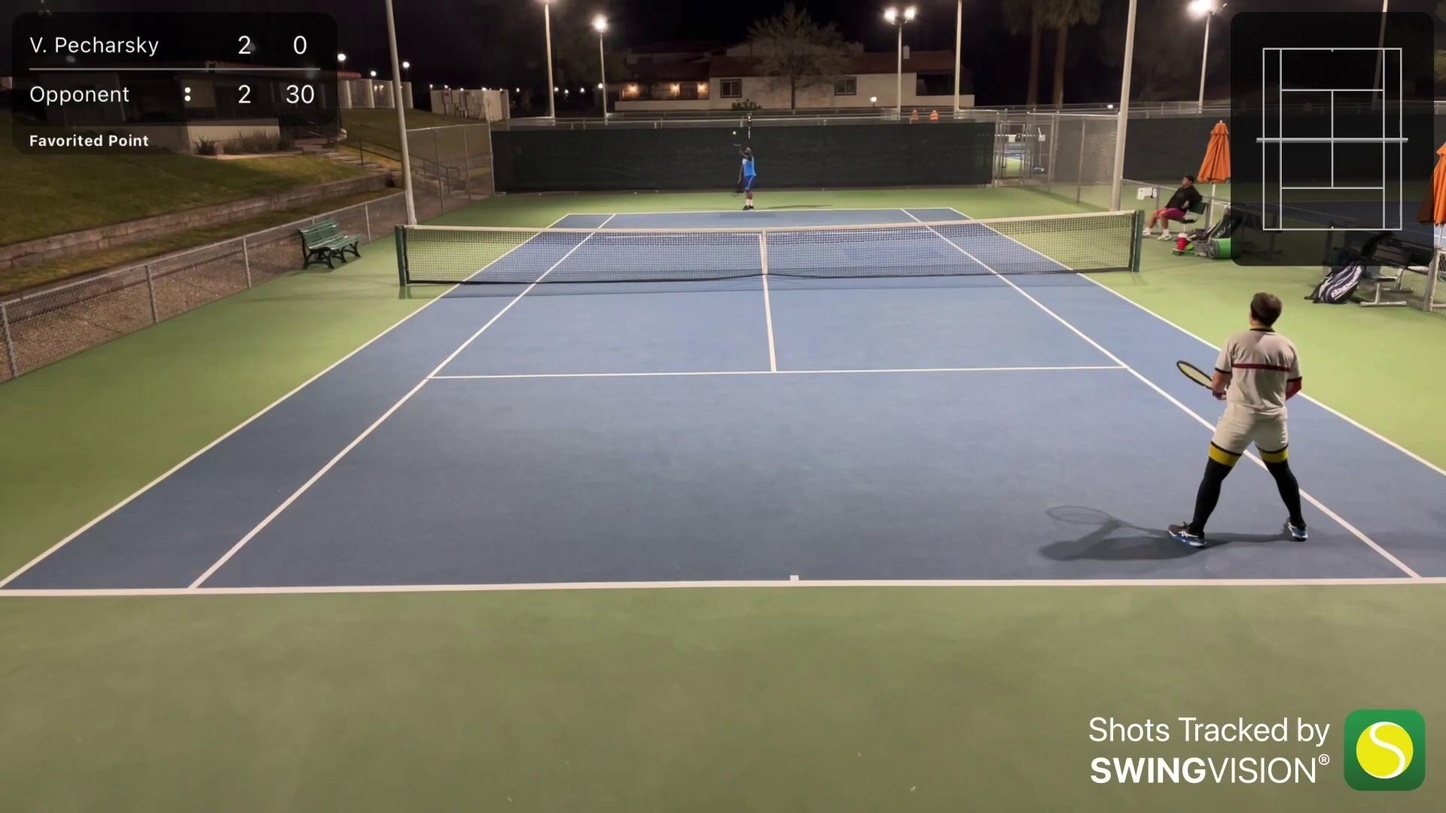ball: (730, 130, 740, 136)
